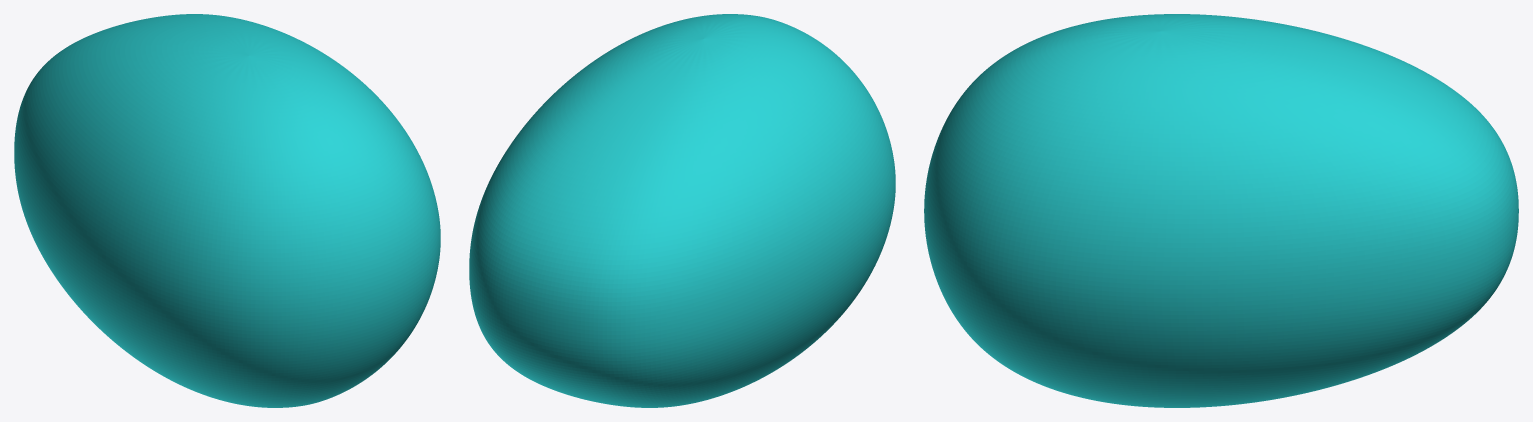
The model's file is Vacoule.fbx.
The picture shows the model from 3 angles, left to right: view 1: azimuth 30°, elevation 25°; view 2: azimuth 150°, elevation 25°; view 3: azimuth 270°, elevation 25°; orthographic projection. The views are drawn at different scales.
Visible parts, largest first — view 1: Sphere; view 2: Sphere; view 3: Sphere.
Part boxes in pixels (x1,y1,x2,y2): Sphere: [14, 14, 440, 407]; Sphere: [469, 14, 895, 407]; Sphere: [924, 14, 1518, 407].
Bounding box in the file's own units: 197 × 200 × 300.
